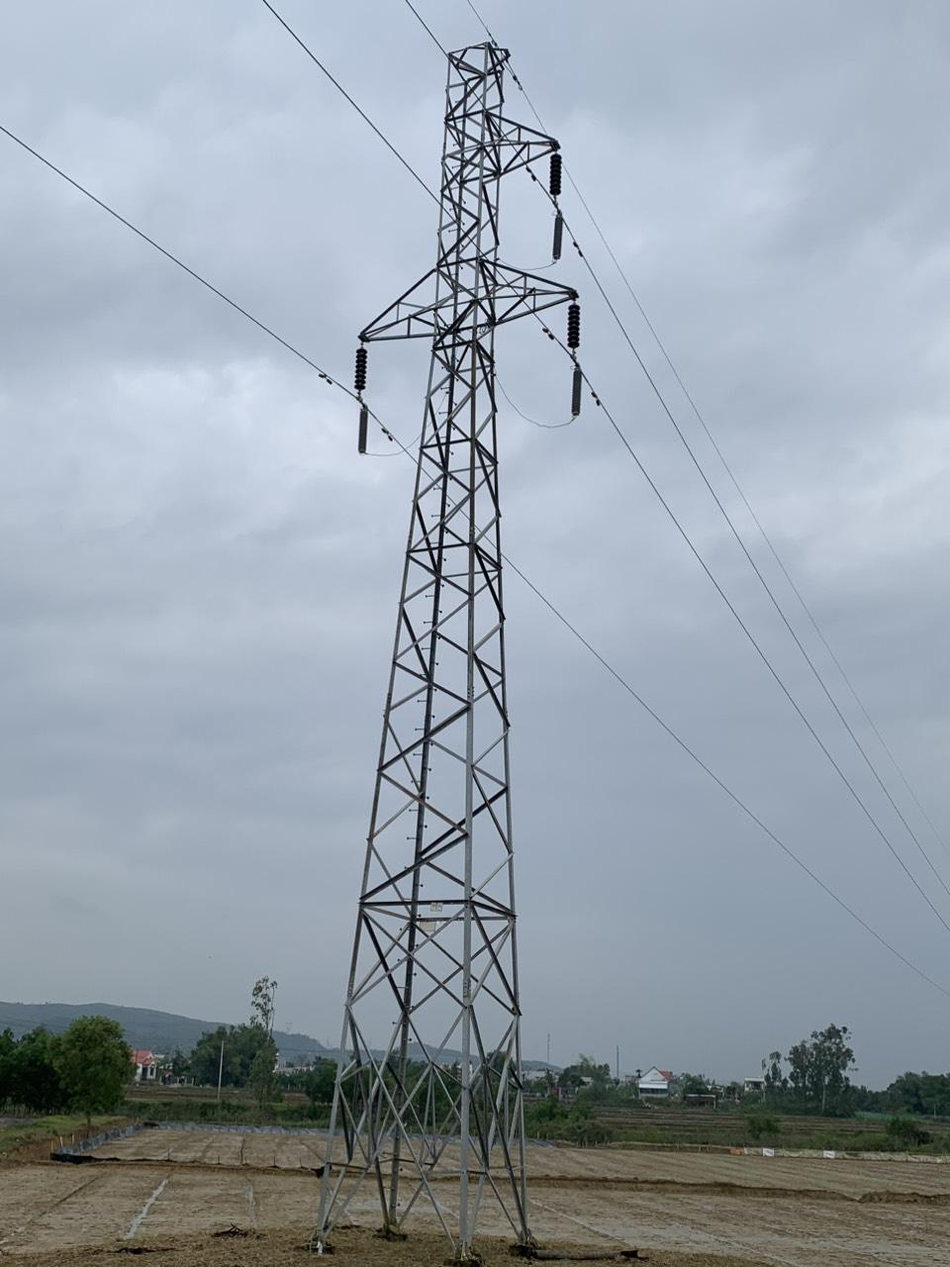power_tower: (319, 28, 558, 1245)
